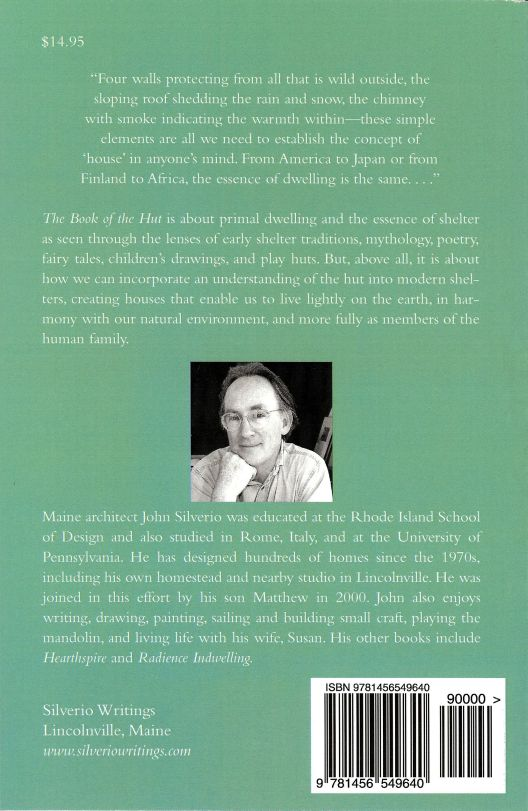barcode: (310, 678, 502, 797)
